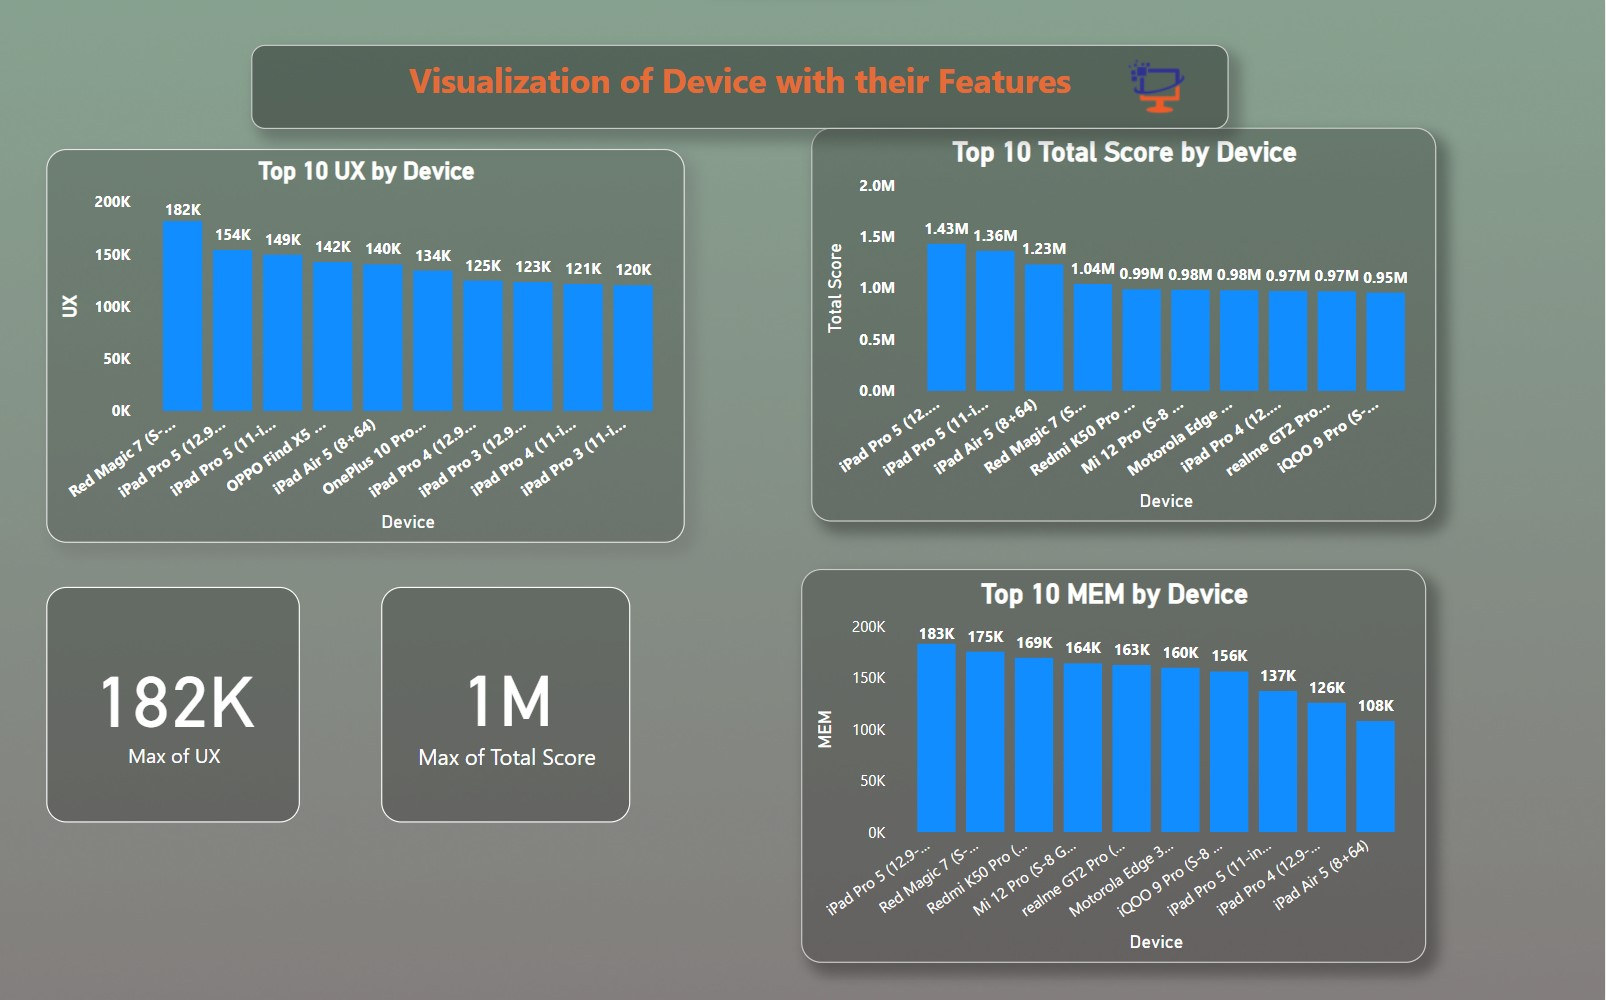

This screenshot's page, from the dashboard's own definition file:
{"tool":"powerbi","page":{"name":"Visualization of Device with their features","canvas":[1280,796],"ordinal":1},"visuals":[{"type":"columnChart","title":"Top 10 UX by Device","fields":{"Category":["antutu_android_vs_ios_v4.Device"],"Y":["Sum(antutu_android_vs_ios_v4.UX)"]},"box":[39.2,118.6,507.8,313.7],"z":0},{"type":"columnChart","title":"Top 10 Total Score  by Device","fields":{"Category":["antutu_android_vs_ios_v4.Device"],"Y":["Sum(antutu_android_vs_ios_v4.Total Score)"]},"box":[648,102,497,313.7],"z":1000},{"type":"card","fields":{"Values":["Max(antutu_android_vs_ios_v4.UX)"]},"box":[39.2,466.6,201.9,187.2],"z":2000},{"type":"card","fields":{"Values":["Max(antutu_android_vs_ios_v4.Total Score)"]},"box":[305.9,466.6,198,187.2],"z":3000},{"type":"columnChart","title":"Top 10 MEM  by Device","fields":{"Category":["antutu_android_vs_ios_v4.Device"],"Y":["Sum(antutu_android_vs_ios_v4.MEM)"]},"box":[640.1,452.9,497,313.7],"z":4000},{"type":"textbox","box":[201.9,35.3,777.4,66.7],"z":4001},{"type":"image","box":[880.3,29.4,83.3,78.4],"z":4002}]}

Visuals, with their boxes in screenshot pixels (x1, y1, x2, y2), scaled from the page's 1280x796 canvas onto the 1606x1000 screenshot:
"Top 10 UX by Device" columnChart: pyautogui.locateOnScreen(49, 149, 686, 543)
"Top 10 Total Score  by Device" columnChart: pyautogui.locateOnScreen(813, 128, 1437, 522)
card - Max(antutu_android_vs_ios_v4.UX): pyautogui.locateOnScreen(49, 586, 303, 821)
card - Max(antutu_android_vs_ios_v4.Total Score): pyautogui.locateOnScreen(384, 586, 632, 821)
"Top 10 MEM  by Device" columnChart: pyautogui.locateOnScreen(803, 569, 1427, 963)
textbox: pyautogui.locateOnScreen(253, 44, 1229, 128)
image: pyautogui.locateOnScreen(1105, 37, 1209, 135)
